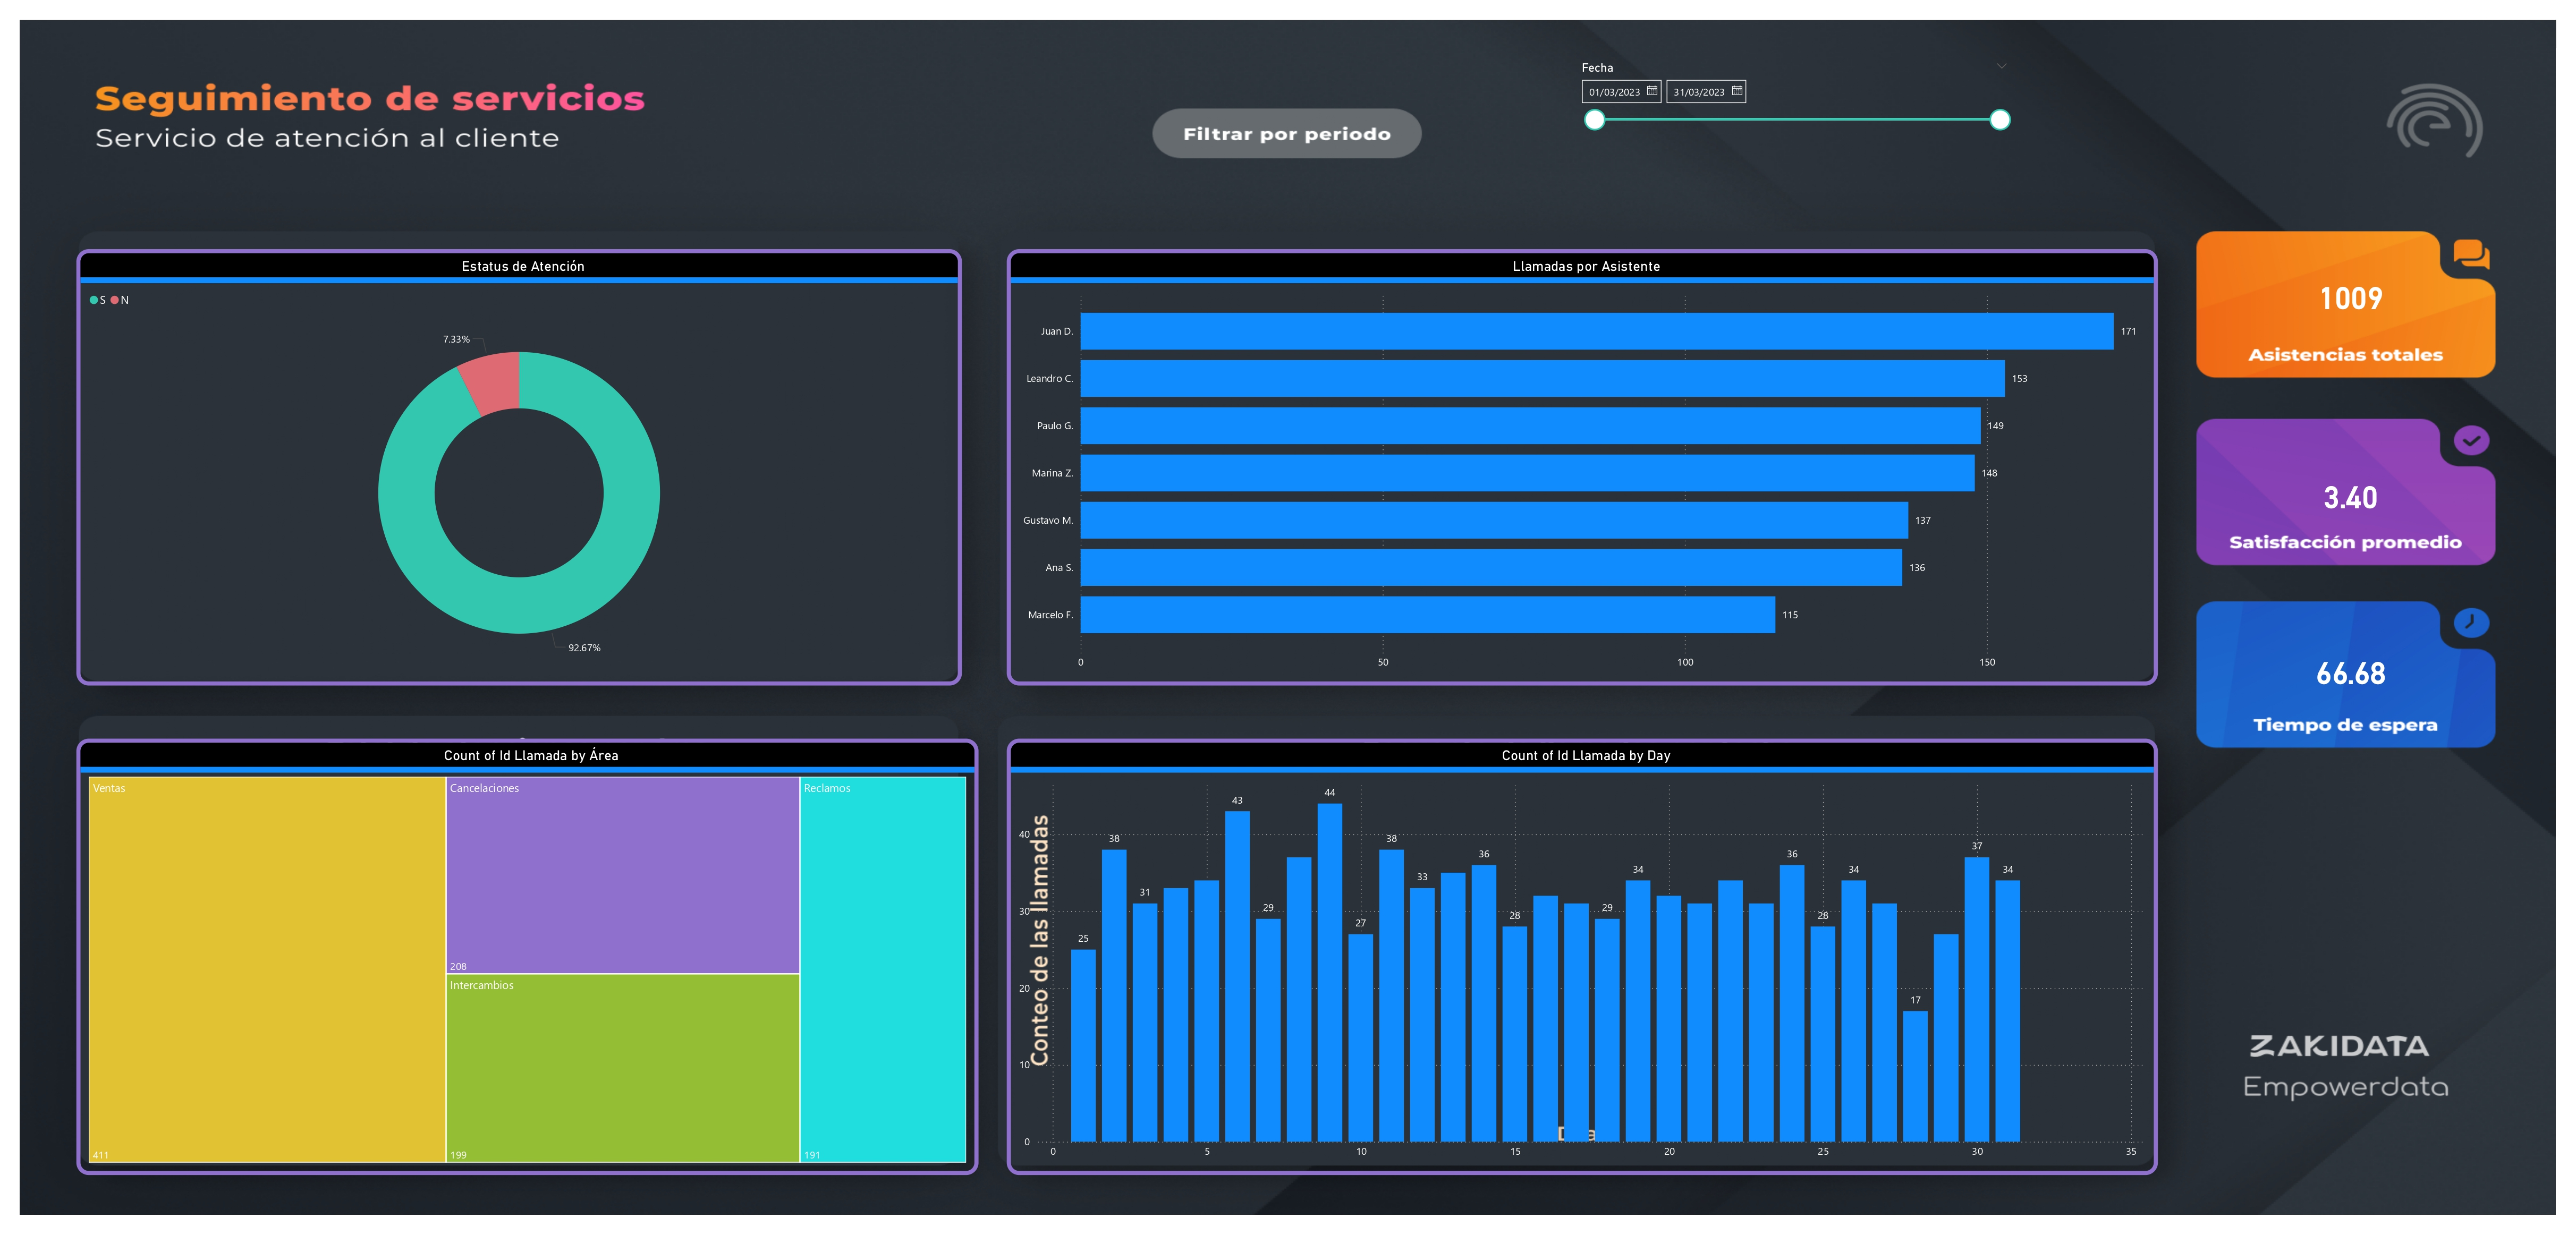

The dashboard page shown, as its layout file describes it:
{"tool":"powerbi","page":{"name":"Page 1","canvas":[3055,1440],"ordinal":0},"visuals":[{"type":"card","fields":{"Values":["atenciones.Id Llamada"]},"box":[2624.9,242.2,367,178.6],"z":0},{"type":"card","fields":{"Values":["atenciones.Índice de satisfacción"]},"box":[2624.9,474.6,367,193.3],"z":1000},{"type":"card","fields":{"Values":["atenciones.Velocidad de respuesta"]},"box":[2624.9,702.1,367,163.9],"z":2000},{"type":"donutChart","title":"Estatus de Atención","fields":{"Category":["atenciones.Resuelto"],"Y":["atenciones.Id Llamada"]},"box":[68.5,276.4,1066.6,526],"z":3000},{"type":"barChart","title":"Llamadas por Asistente","fields":{"Category":["atenciones.Asistente"],"Y":["atenciones.Id Llamada"]},"box":[1188.9,276.4,1387.1,526],"z":4000},{"type":"treemap","fields":{"Group":["atenciones.Área"],"Values":["atenciones.Id Llamada"]},"box":[68.5,866,1086.2,526],"z":5000},{"type":"clusteredColumnChart","fields":{"Category":["atenciones.Fecha.Variation.Date Hierarchy.Year","atenciones.Fecha.Variation.Date Hierarchy.Quarter","atenciones.Fecha.Variation.Date Hierarchy.Month","atenciones.Fecha.Variation.Date Hierarchy.Day"],"Y":["atenciones.Id Llamada"]},"box":[1188.9,866,1387.1,526],"z":6000},{"type":"slicer","fields":{"Values":["atenciones.Fecha"]},"box":[1869,44,538.2,198.2],"z":7000}]}

Visuals, with their boxes on the page's 3055x1440 design canvas (x1, y1, x2, y2). These are canvas units, not pixel positions in the 2576x1235 screenshot, which may show the page scaled, cropped or inside an application window:
card - atenciones.Id Llamada: bbox(2625, 242, 2992, 421)
card - atenciones.Índice de satisfacción: bbox(2625, 475, 2992, 668)
card - atenciones.Velocidad de respuesta: bbox(2625, 702, 2992, 866)
"Estatus de Atención" donutChart: bbox(68, 276, 1135, 802)
"Llamadas por Asistente" barChart: bbox(1189, 276, 2576, 802)
treemap - atenciones.Área x atenciones.Id Llamada: bbox(68, 866, 1155, 1392)
clusteredColumnChart - atenciones.Fecha.Variation.Date Hierarchy.Year x atenciones.Fecha.Variation.Date Hierarchy.Quarter: bbox(1189, 866, 2576, 1392)
slicer - atenciones.Fecha: bbox(1869, 44, 2407, 242)
